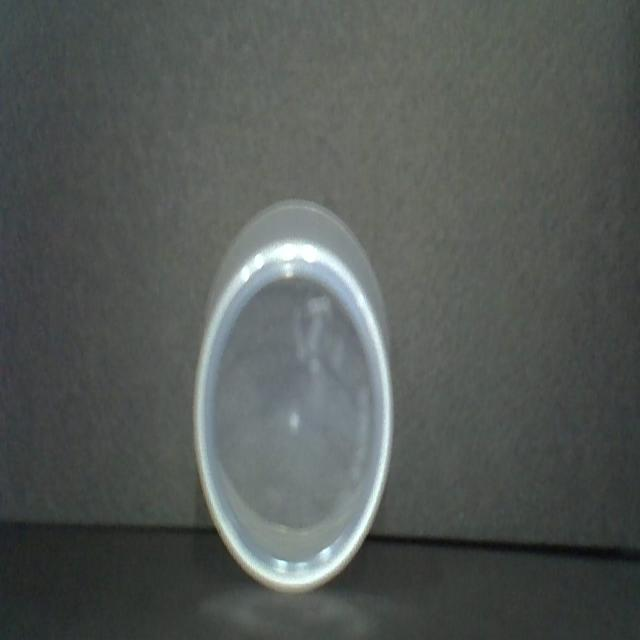cup: (187, 192, 399, 612)
